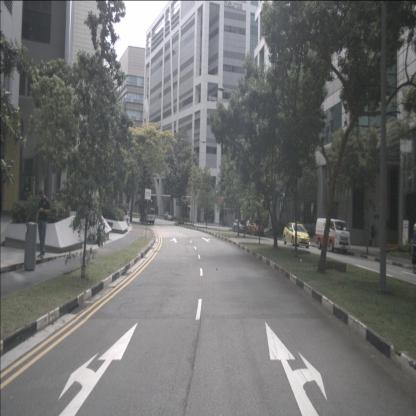human-pedestrian-adult: (36, 190, 50, 258)
vehicle-car: (315, 218, 351, 254), (283, 223, 310, 249), (245, 218, 264, 236), (141, 208, 155, 225), (233, 218, 246, 233), (164, 211, 174, 221)
